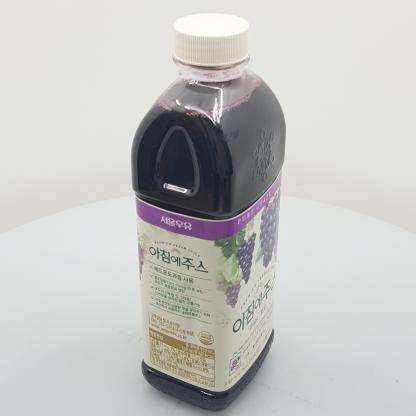------------950ML: (131, 12, 286, 412)
